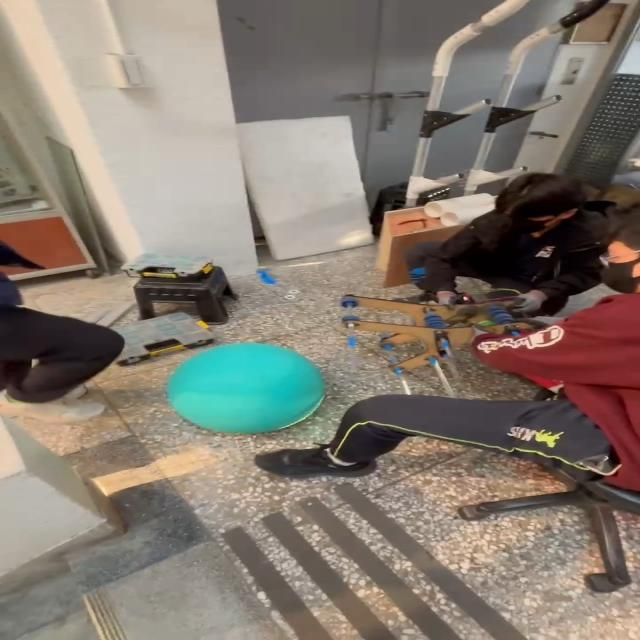ALGAE: (164, 341, 327, 435)
